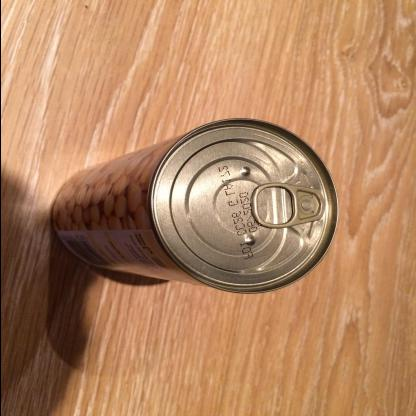metal: (50, 116, 340, 295)
